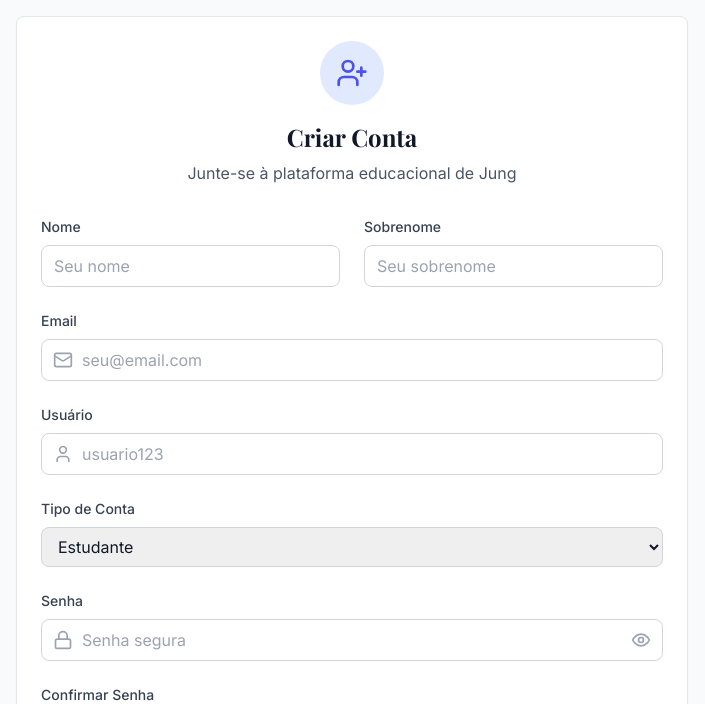
Test: RegisterForm Component › Password Strength Indicator › should display password strength indicator
This screenshot has width=705, height=704.
Type "123" into the password field labelled "Senha".
click(352, 640); type("123")  # box [41,619,663,661]
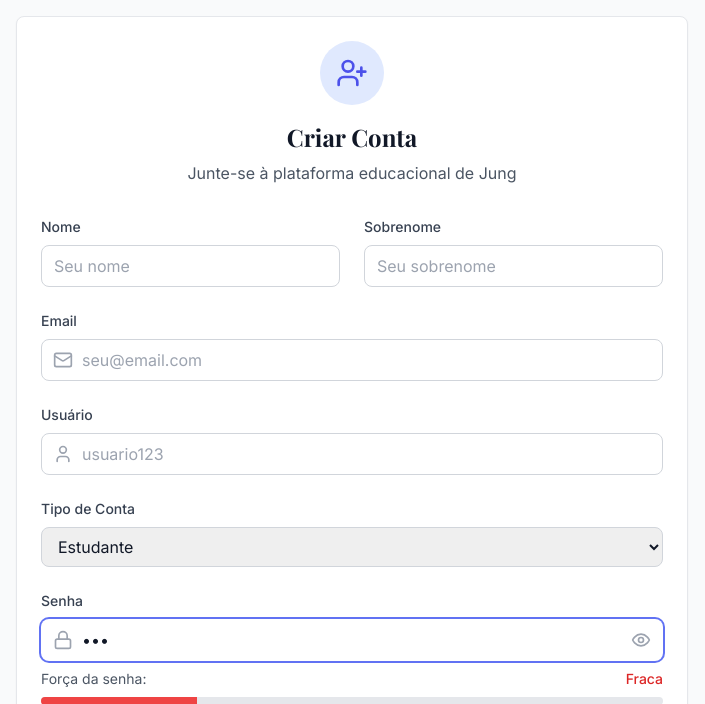
expect the text "Força da senha:" is shown: met, box [41,669,146,689]
expect the text "Fraca" is shown: met, box [626,669,663,689]
